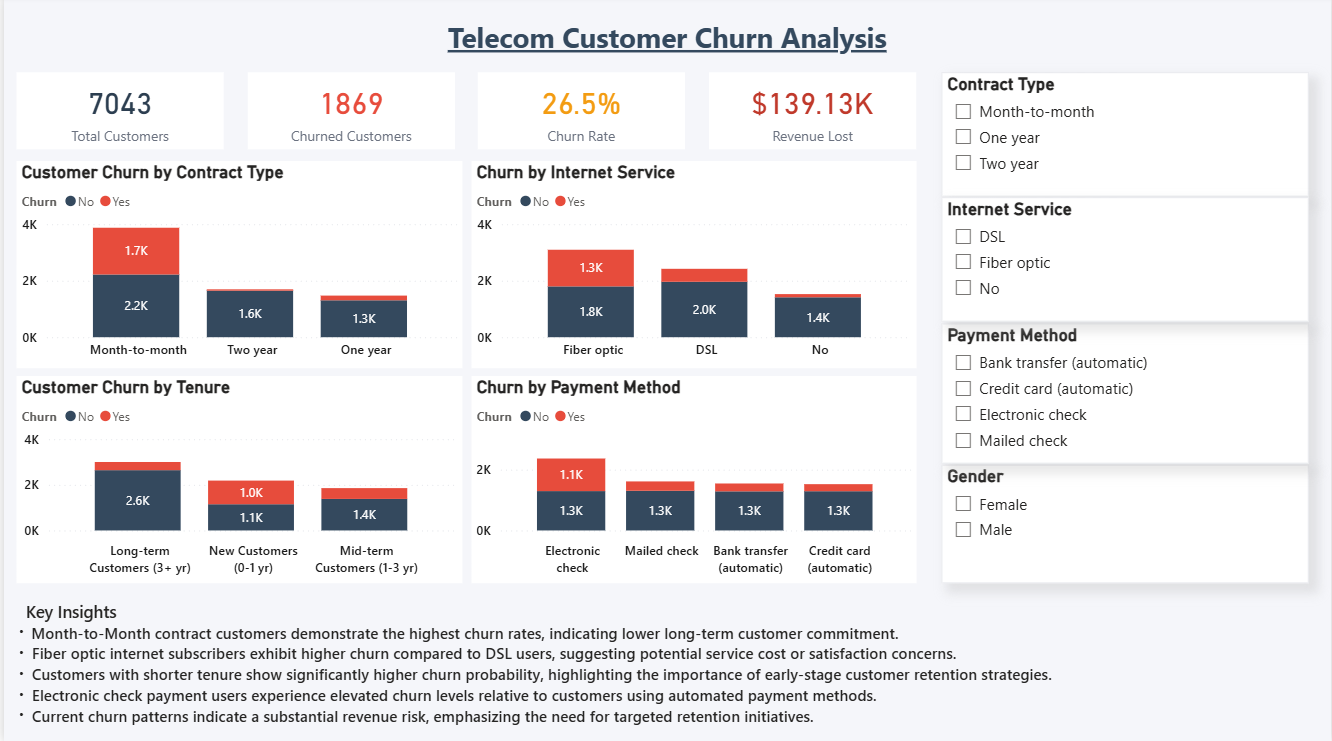

This screenshot's page, from the dashboard's own definition file:
{"tool":"powerbi","page":{"name":"Page 1","canvas":[1280,720],"ordinal":0},"visuals":[{"type":"columnChart","title":" Customer Churn by Contract Type ","fields":{"Category":["Churn_data.Contract"],"Y":["Churn_data.Total Customers"],"Series":["Churn_data.Churn"]},"box":[12.1,159.3,430.7,200.3],"z":0},{"type":"textbox","box":[375.2,16.5,529.7,45.3],"z":1000},{"type":"columnChart","title":"Churn by Internet Service","fields":{"Category":["Churn_data.InternetService"],"Y":["CountNonNull(Churn_data.customerID)"],"Series":["Churn_data.Churn"]},"box":[451.2,159.3,429.5,200.3],"z":2000},{"type":"columnChart","title":"Customer Churn by Tenure","fields":{"Category":["Churn_data.Tenure Group"],"Y":["CountNonNull(Churn_data.customerID)"],"Series":["Churn_data.Churn"]},"box":[12.1,366.8,430.7,200.3],"z":3000},{"type":"columnChart","title":"Churn by Payment Method","fields":{"Y":["CountNonNull(Churn_data.customerID)"],"Series":["Churn_data.Churn"],"Category":["Churn_data.PaymentMethod"]},"box":[451.2,366.8,429.5,200.3],"z":4000},{"type":"card","fields":{"Values":["Churn_data.Total Customers"]},"box":[12.1,73.6,200.3,74.8],"z":5000},{"type":"card","fields":{"Values":["Churn_data.Revenue Lost"]},"box":[680.4,73.6,200.3,74.8],"z":6000},{"type":"card","fields":{"Values":["Churn_data.Churn Rate"]},"box":[457.6,73.6,200.3,74.8],"z":7000},{"type":"card","fields":{"Values":["Churn_data.Churned Customers"]},"box":[234.9,73.6,200.3,74.8],"z":8000},{"type":"slicer","title":"Contract Type","fields":{"Values":["Churn_data.Contract"]},"box":[904.8,73.6,354.7,120],"z":9000},{"type":"slicer","title":"Gender","fields":{"Values":["Churn_data.gender"]},"box":[904.8,452.4,354.7,114.6],"z":10000},{"type":"slicer","title":"Payment Method","fields":{"Values":["Churn_data.PaymentMethod"]},"box":[904.8,316.1,354.7,135.1],"z":11000},{"type":"slicer","title":"Internet Service","fields":{"Values":["Churn_data.InternetService"]},"box":[904.8,194.8,354.7,120],"z":12000},{"type":"textbox","box":[0,577.9,1082.2,142.4],"z":13000}]}

Visuals, with their boxes in screenshot pixels (x1, y1, x2, y2), scaled from the page's 1280x720 canvas onto the 1332x741 screenshot:
" Customer Churn by Contract Type " columnChart: 13 164 461 370
textbox: 390 17 942 64
"Churn by Internet Service" columnChart: 470 164 916 370
"Customer Churn by Tenure" columnChart: 13 377 461 584
"Churn by Payment Method" columnChart: 470 377 916 584
card - Churn_data.Total Customers: 13 76 221 153
card - Churn_data.Revenue Lost: 708 76 916 153
card - Churn_data.Churn Rate: 476 76 685 153
card - Churn_data.Churned Customers: 244 76 453 153
"Contract Type" slicer: 942 76 1311 199
"Gender" slicer: 942 466 1311 584
"Payment Method" slicer: 942 325 1311 464
"Internet Service" slicer: 942 200 1311 324
textbox: 0 595 1126 740
